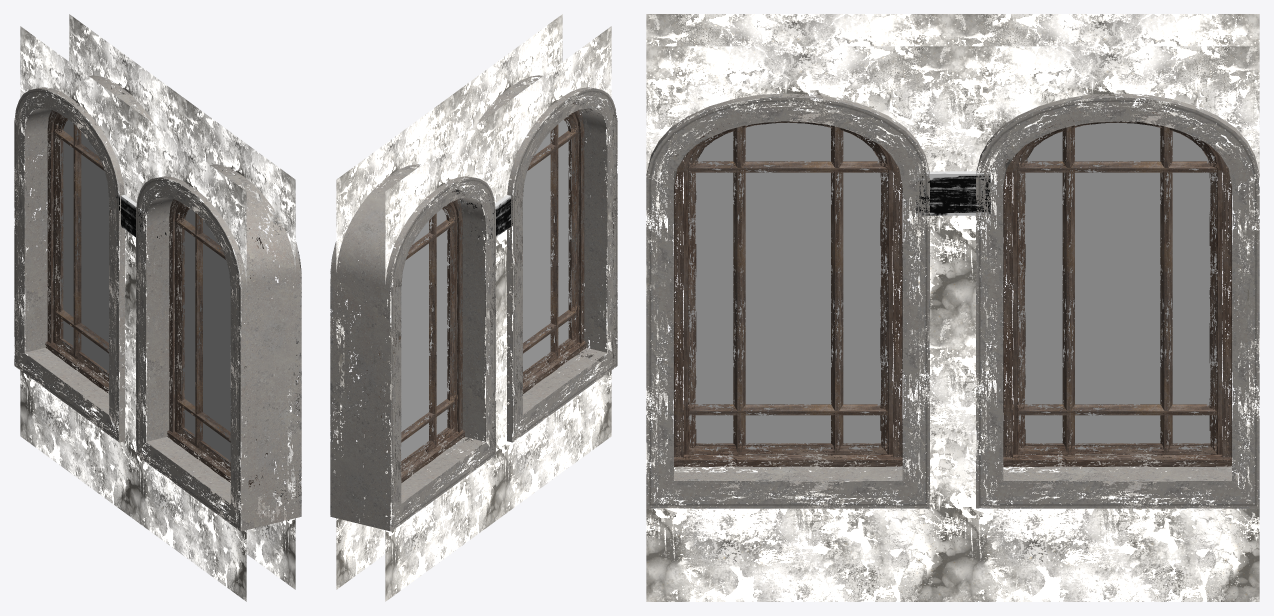
File: SM_wall_A_window_4x4_02_02.fbx
3 renders of one model, left to right at view 1: azimuth 30°, elevation 25°; view 2: azimuth 150°, elevation 25°; view 3: azimuth 270°, elevation 25°, orthographic. The views are drawn at different scales.
Parts seen in each view (by area): view 1: SM_wall_A_window_4x4_02_02_LOD0; view 2: SM_wall_A_window_4x4_02_02_LOD0; view 3: SM_wall_A_window_4x4_02_02_LOD0.
Part boxes in pixels (box(x1,y1,x2,y2)): SM_wall_A_window_4x4_02_02_LOD0: box(14, 14, 301, 601); SM_wall_A_window_4x4_02_02_LOD0: box(330, 14, 617, 601); SM_wall_A_window_4x4_02_02_LOD0: box(646, 14, 1259, 601).
Size of the model in its own units: 62.17 by 400 by 400.
Materials: 6 (5 with a texture image).
